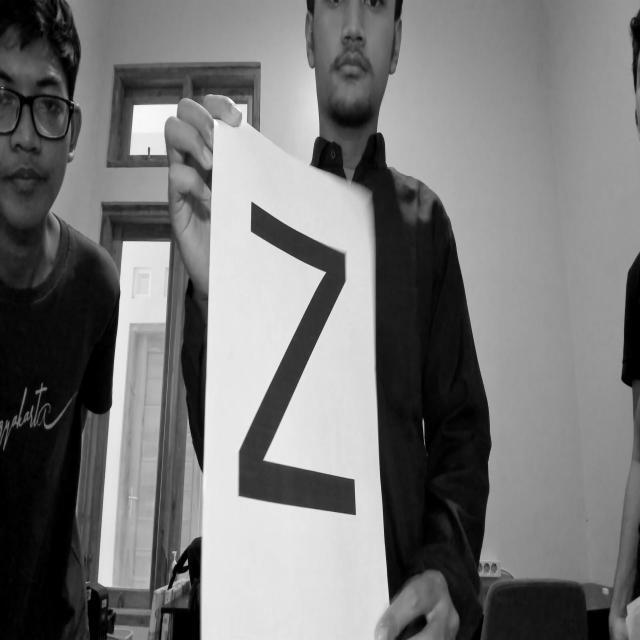z: (230, 193, 364, 536)
